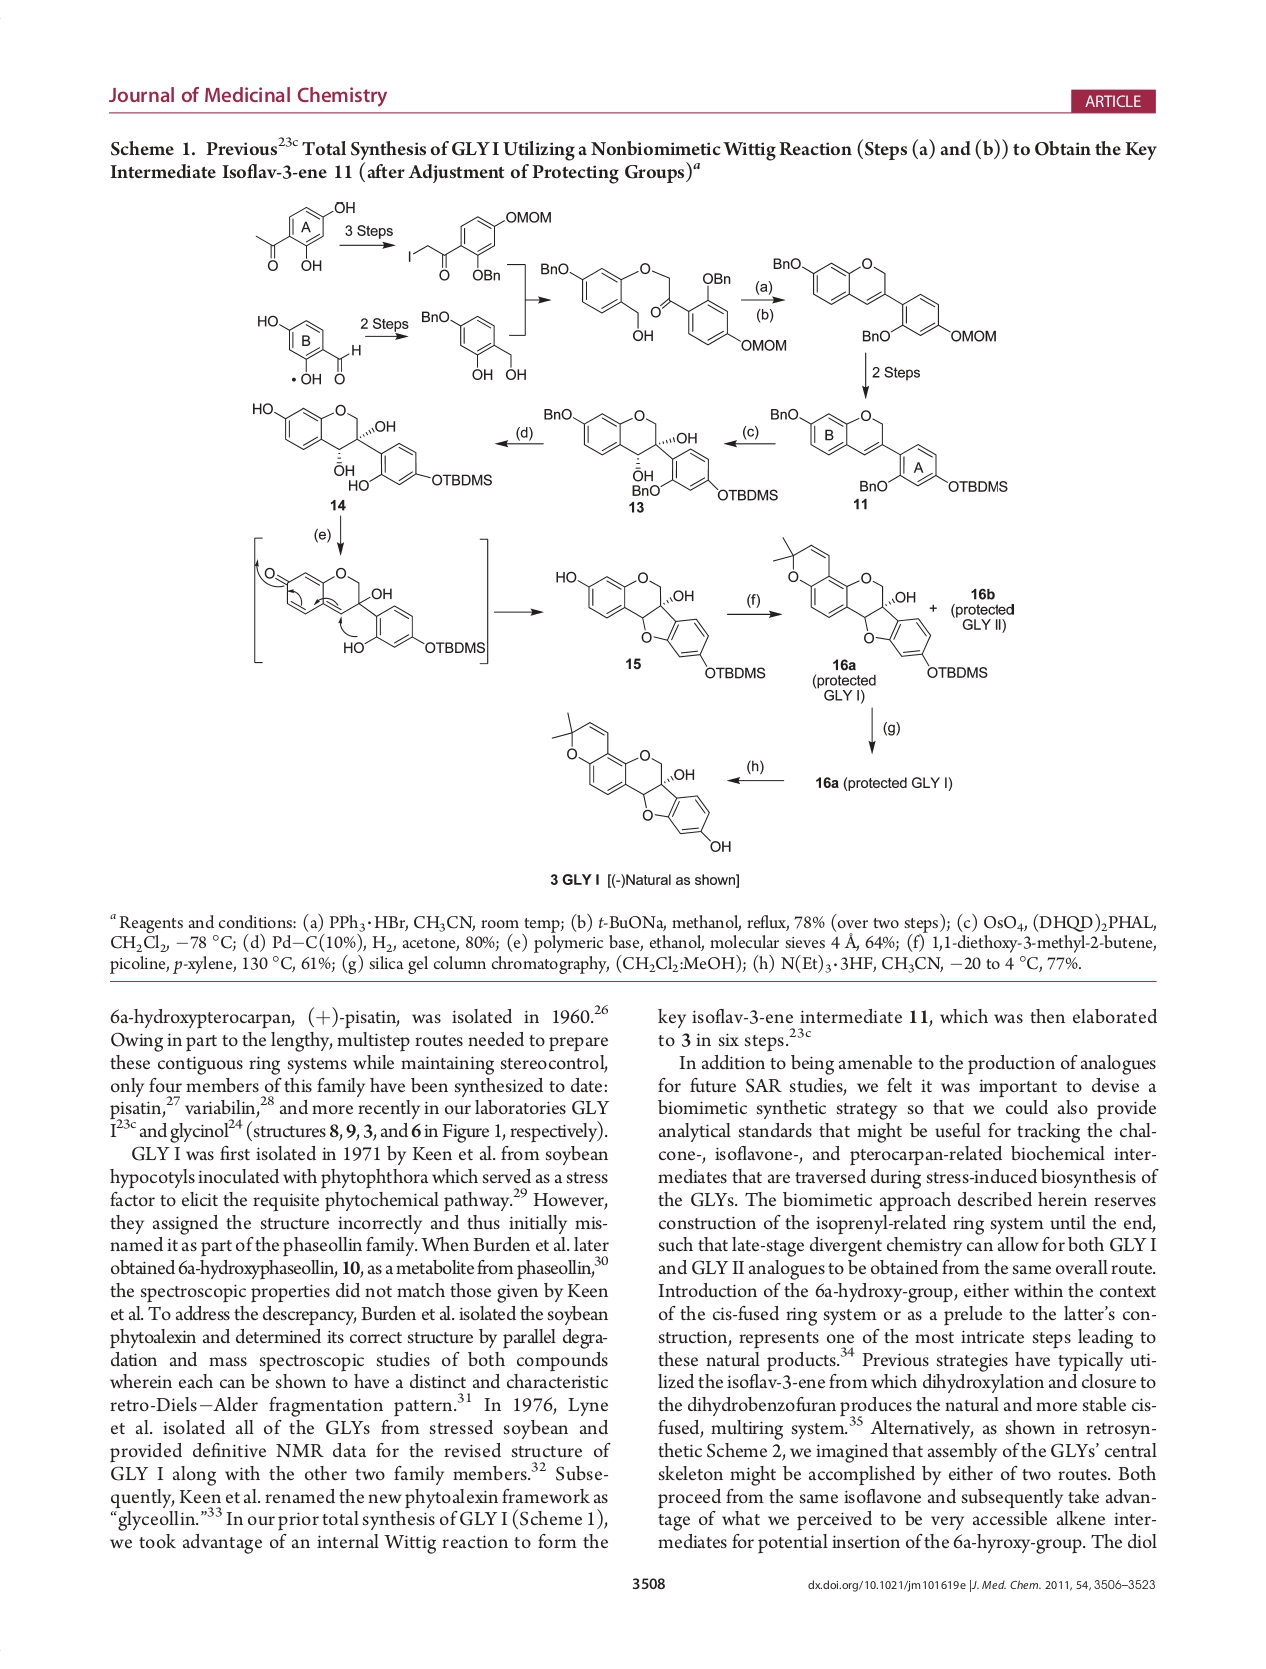exist_molecular: (770, 535, 989, 682), (551, 706, 733, 858), (552, 567, 766, 684), (539, 257, 789, 355), (249, 398, 493, 493), (541, 404, 779, 503), (767, 402, 1009, 497), (771, 250, 1000, 348), (407, 209, 555, 283), (251, 311, 366, 390), (249, 198, 356, 274), (419, 309, 529, 380)
